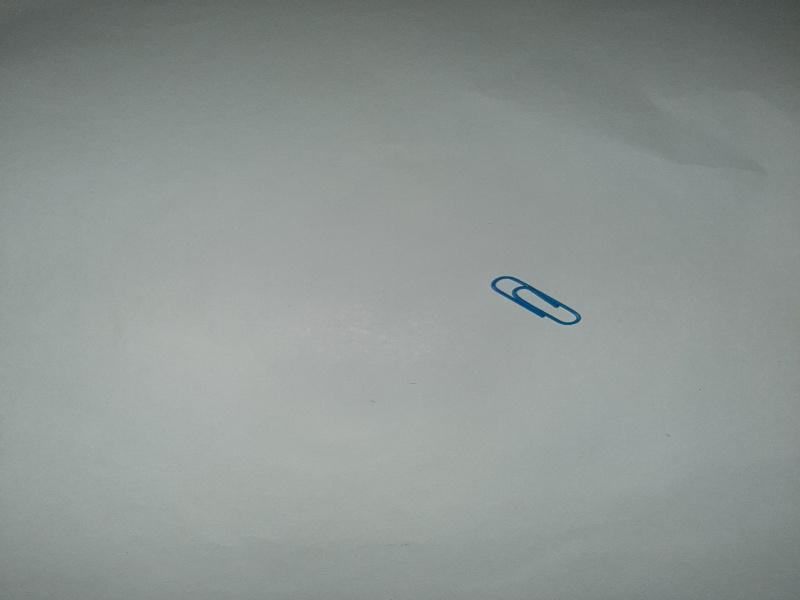Small Jumpclip: (490, 268, 588, 342)
